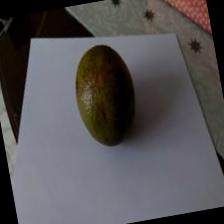Orange Rotten: (60, 29, 156, 162)
